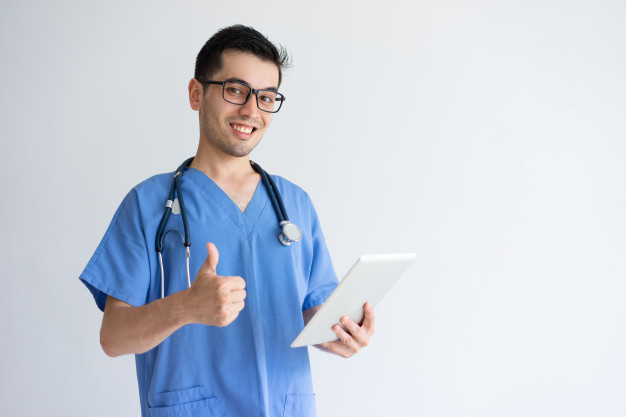thumbsup: (203, 242, 247, 327)
